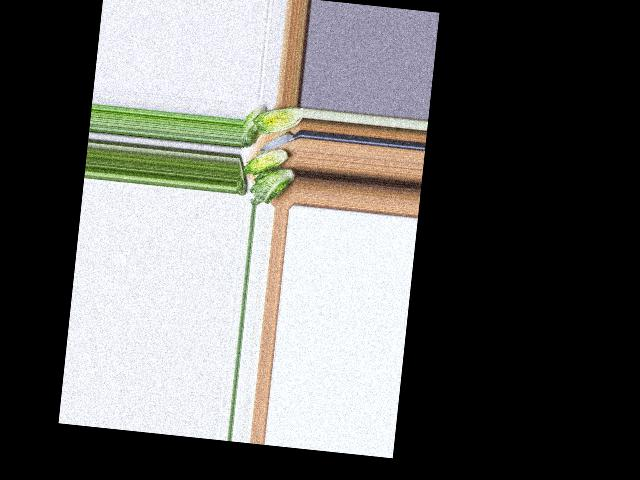lettuce: (242, 104, 265, 148)
